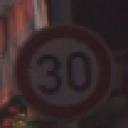speed_limit_30: (13, 25, 117, 119)
